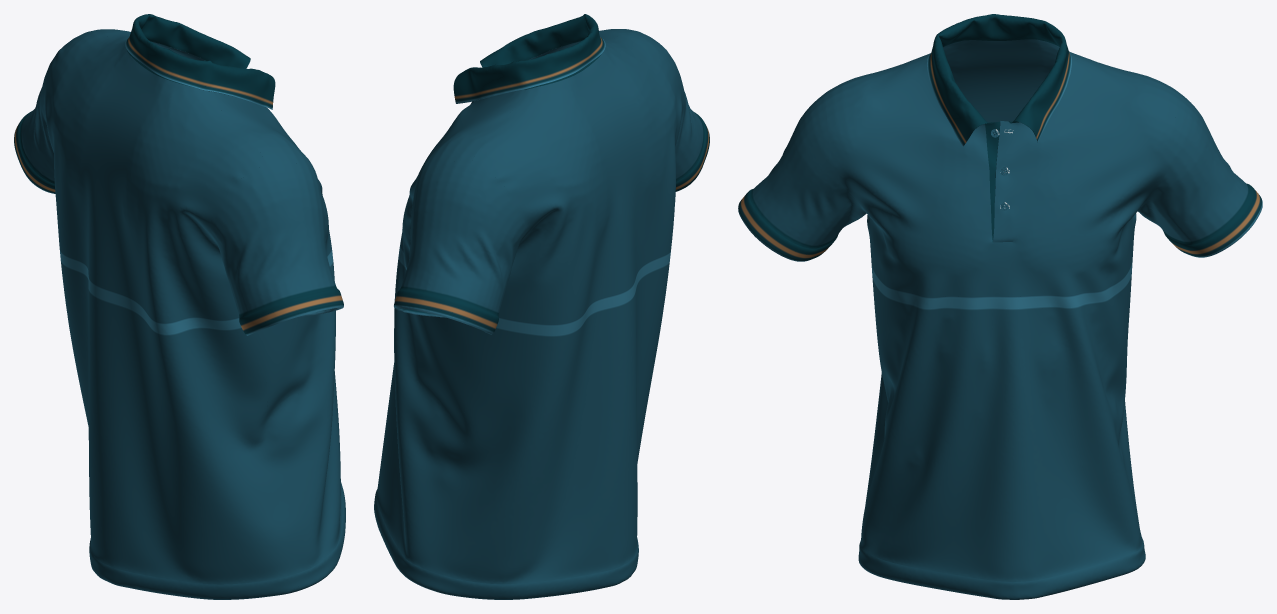
File: polo_shirt.glb
The picture shows the model from 3 angles, left to right: view 1: azimuth 30°, elevation 25°; view 2: azimuth 150°, elevation 25°; view 3: azimuth 270°, elevation 25°; orthographic projection. The views are drawn at different scales.
Parts seen in each view (by area): view 1: Object_11, Object_10, Object_9, Object_6, Object_5; view 2: Object_11, Object_10, Object_9, Object_5, Object_6; view 3: Object_9, Object_10, Object_5, Object_6, Object_7, Object_8, Object_11.
Part boxes in pixels (x1,y1,x2,y2): Object_11: (44, 32, 294, 597); Object_10: (89, 32, 344, 599); Object_9: (87, 29, 345, 590); Object_6: (14, 53, 343, 335); Object_5: (19, 14, 275, 183); Object_11: (448, 31, 682, 599); Object_10: (375, 30, 682, 599); Object_9: (374, 29, 636, 591); Object_5: (400, 14, 605, 317); Object_6: (394, 43, 709, 334); Object_9: (825, 57, 1175, 599); Object_10: (826, 53, 1175, 599); Object_5: (927, 14, 1262, 257); Object_6: (738, 92, 1262, 261); Object_7: (943, 39, 1059, 122); Object_8: (998, 255, 1113, 436); Object_11: (841, 40, 1174, 514).
Size of the model in its own units: 0.3519 by 0.7246 by 0.6657.
1 material, 1 textured.
